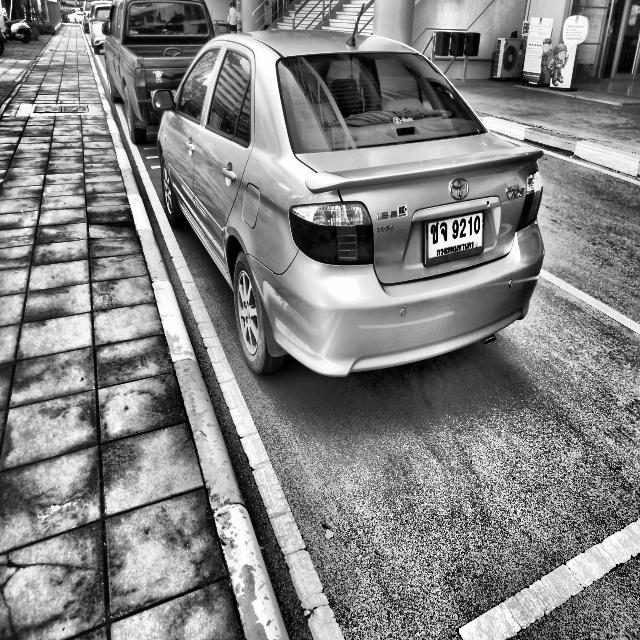license-plate: (422, 209, 492, 267)
